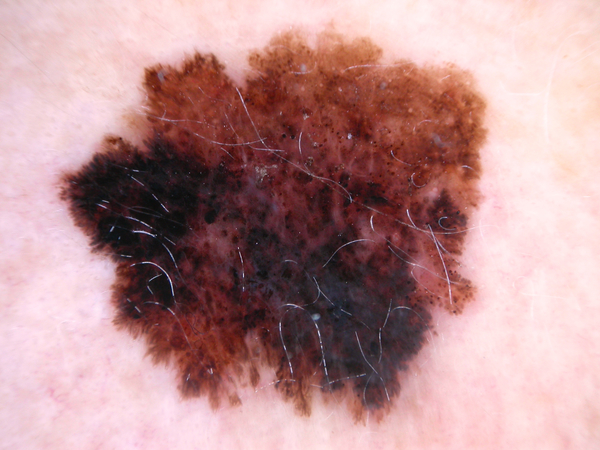Detected Lesion: (53, 22, 490, 424)
